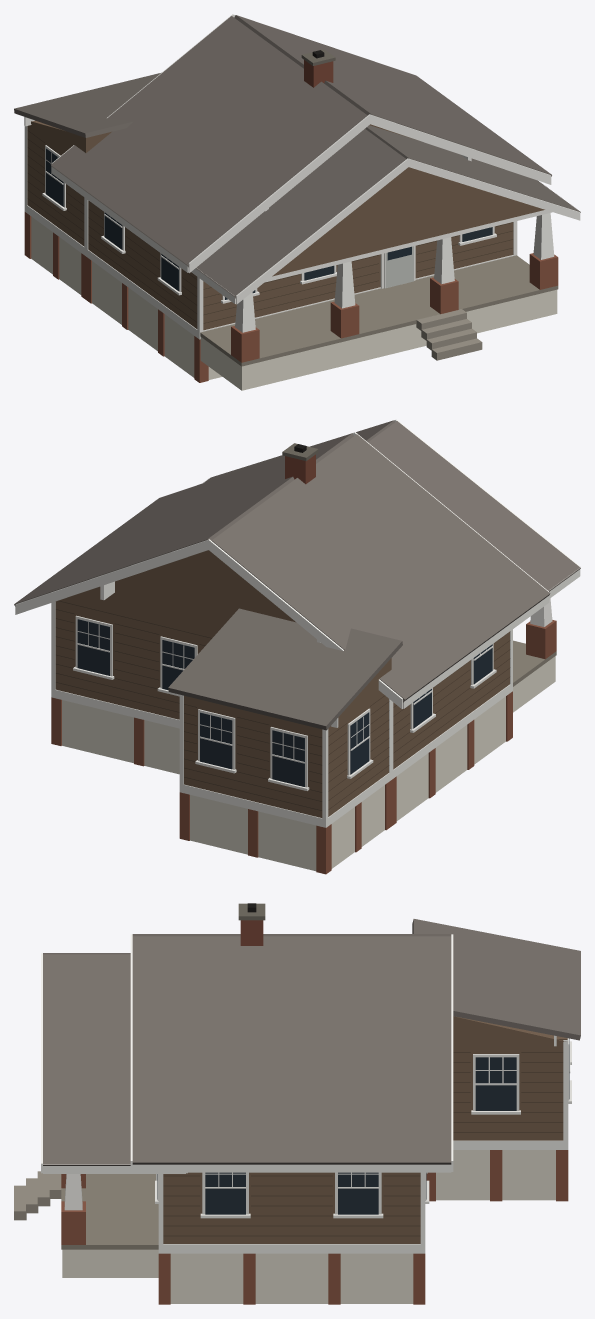
File: craftsman-bungalow-0002.glb
The picture shows the model from 3 angles, top to bottom: view 1: azimuth 30°, elevation 25°; view 2: azimuth 150°, elevation 25°; view 3: azimuth 270°, elevation 25°; orthographic projection. The views are drawn at different scales.
Parts seen in each view (by area): view 1: kit-craftsman-bungalow-0002; view 2: kit-craftsman-bungalow-0002; view 3: kit-craftsman-bungalow-0002.
Part boxes in pixels (<box>): kit-craftsman-bungalow-0002: <box>14,14,580,390</box>; kit-craftsman-bungalow-0002: <box>14,419,580,874</box>; kit-craftsman-bungalow-0002: <box>14,903,580,1304</box>.
Bounding box in the file's own units: 12.14 × 8.33 × 13.89.
